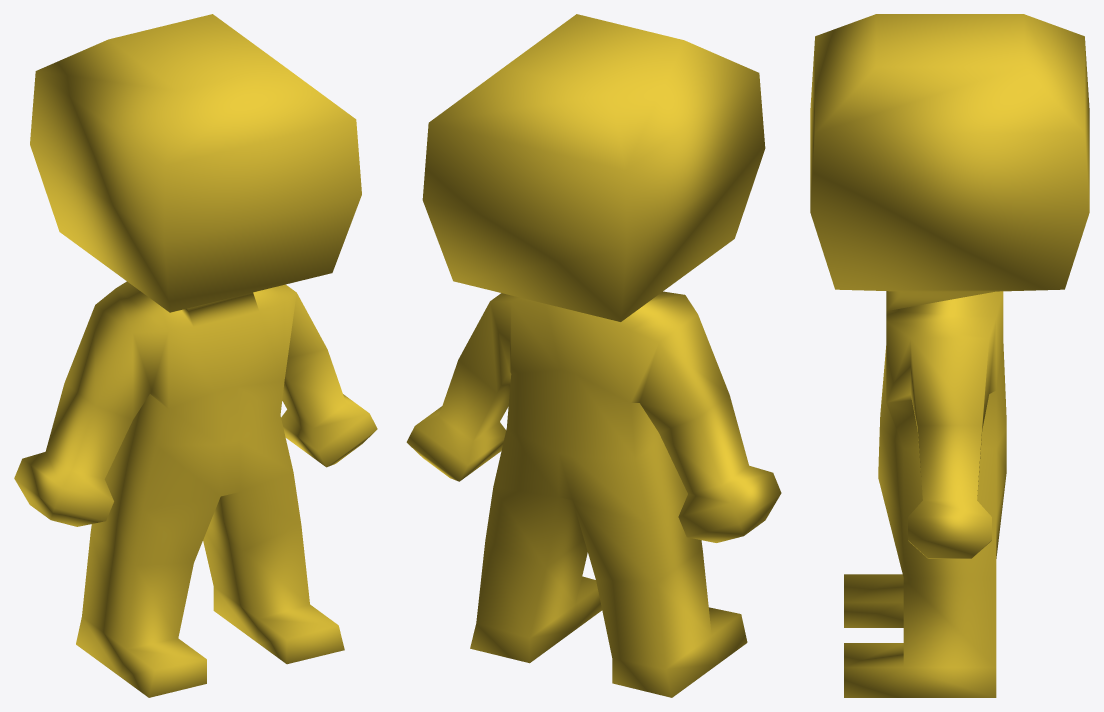
Rendered from aaaa.glb.
The picture shows the model from 3 angles, left to right: view 1: azimuth 30°, elevation 25°; view 2: azimuth 150°, elevation 25°; view 3: azimuth 270°, elevation 25°; orthographic projection. The views are drawn at different scales.
Visible parts, largest first — view 1: Cube.001; view 2: Cube.001; view 3: Cube.001.
Part boxes in pixels (left/top/right/bottom): Cube.001: left=14, top=14, right=377, bottom=697; Cube.001: left=406, top=14, right=781, bottom=697; Cube.001: left=810, top=14, right=1089, bottom=697.
Size of the model in its own units: 0.8566 by 1.48 by 0.6168.
